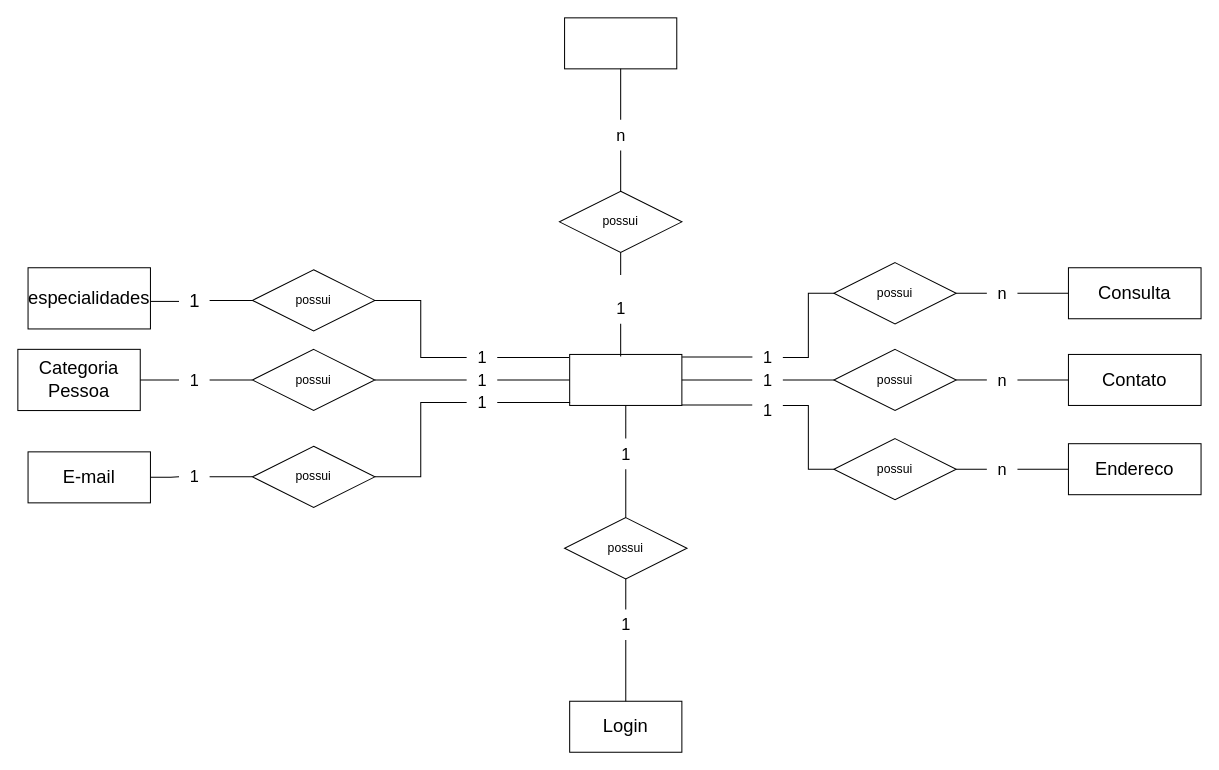
The diagram is 1219 pixels wide and 770 high, and some of its shapes have lost their labels. The shapes that lost their labels are listed below. From the top down, each one's box as (x1, y1, x2, y2) in pixels, then its label:
(564, 17, 677, 69): Prontuário
(569, 353, 682, 405): Pessoa
